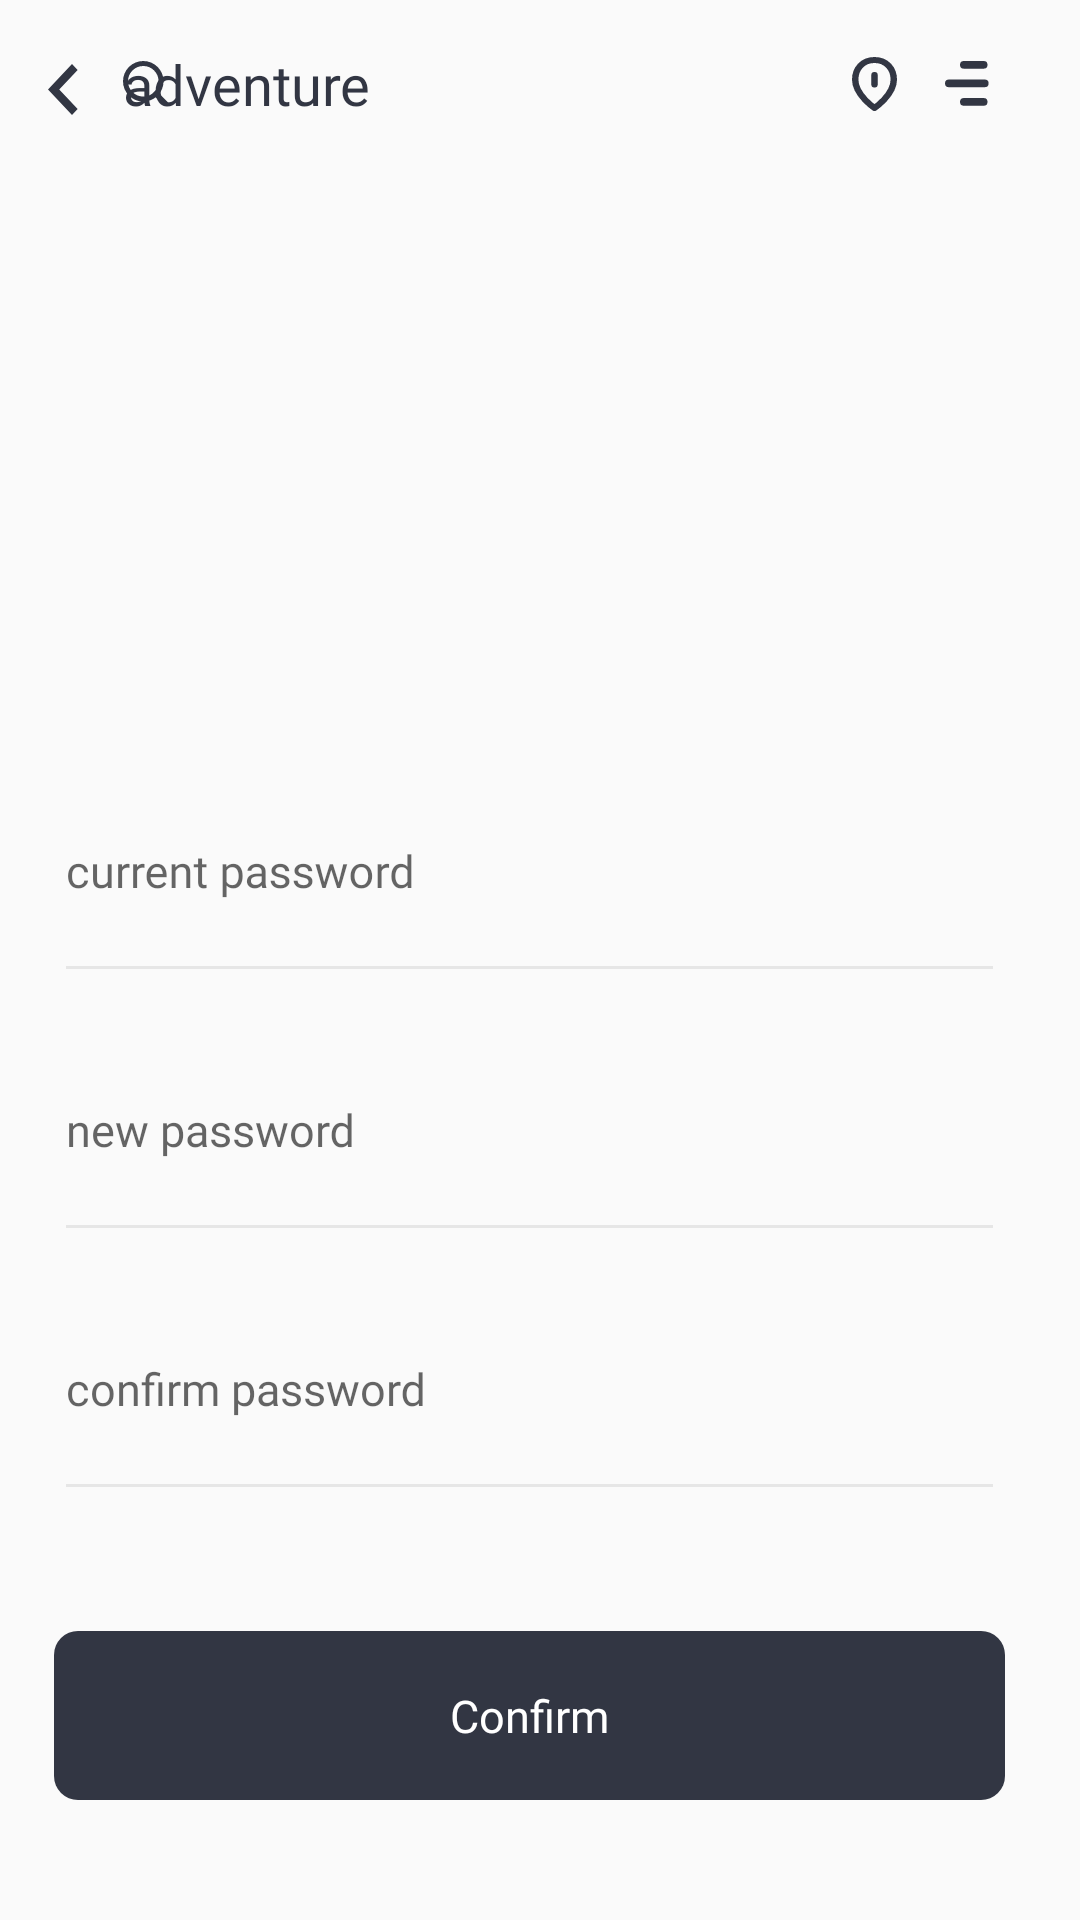

Screen size 1080px×1920px. Icon name, then its center in pixels as point (x, y):
back: point (63, 89)
location: point (874, 84)
menu: point (967, 83)
